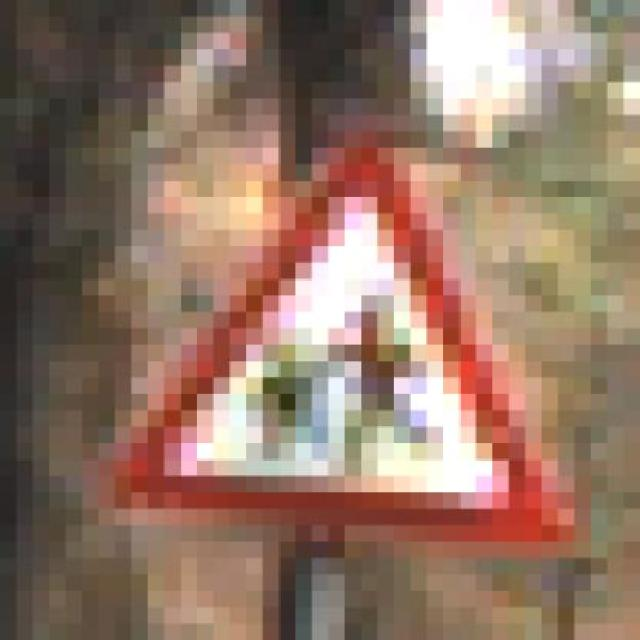Beware of children: (82, 115, 590, 574)
